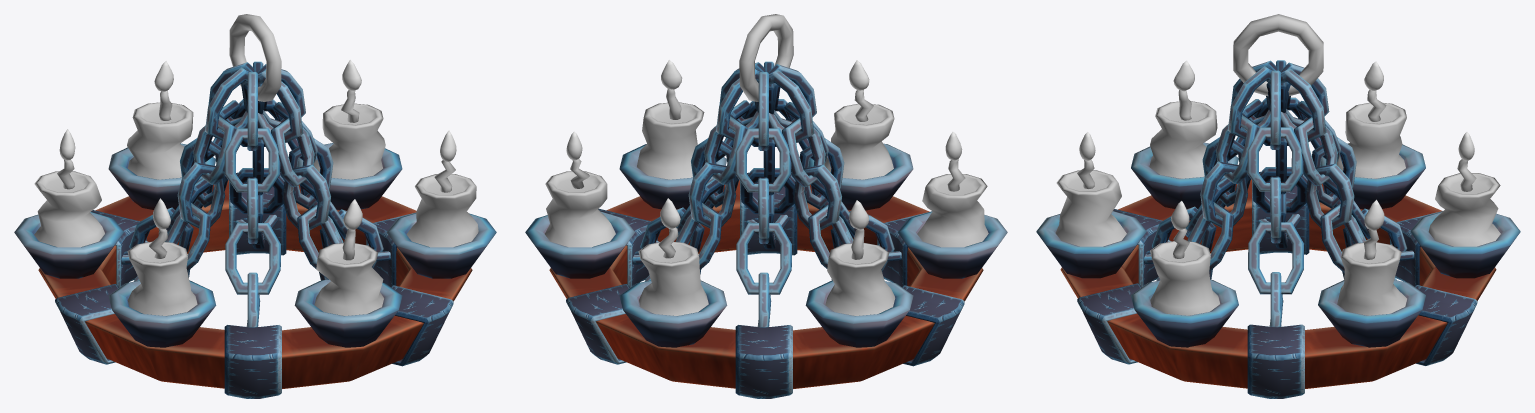
Rendered from chandelier 1.fbx.
3 views of the same model, side by side, from view 1: azimuth 30°, elevation 25°; view 2: azimuth 150°, elevation 25°; view 3: azimuth 270°, elevation 25° (orthographic).
Parts seen in each view (by area): view 1: chain, candle.005, Circle.004, Cylinder, Cube.032, Sphere.008, doors.002, lont.002; view 2: chain, candle.005, Circle.004, Cylinder, Cube.032, Sphere.008, doors.002, lont.002; view 3: chain, candle.005, Circle.004, Cylinder, Cube.032, doors.002, Sphere.008, lont.002.
Boxes of the visible parts, x1,y1,x2,y2 form: chain: (121, 61, 390, 326); candle.005: (34, 102, 478, 315); Circle.004: (14, 143, 496, 347); Cylinder: (38, 180, 472, 388); Cube.032: (55, 172, 453, 398); Sphere.008: (59, 60, 456, 229); doors.002: (229, 14, 281, 101); lont.002: (57, 90, 455, 260); chain: (632, 61, 901, 326); candle.005: (545, 102, 988, 315); Circle.004: (525, 143, 1007, 347); Cylinder: (549, 180, 983, 388); Cube.032: (566, 172, 964, 398); Sphere.008: (566, 60, 962, 229); doors.002: (739, 14, 793, 101); lont.002: (570, 89, 965, 259); chain: (1144, 60, 1414, 326); candle.005: (1055, 101, 1500, 315); Circle.004: (1036, 142, 1520, 347); Cylinder: (1060, 179, 1496, 388); Cube.032: (1077, 171, 1477, 398); doors.002: (1233, 14, 1323, 96); Sphere.008: (1079, 60, 1474, 230); lont.002: (1077, 89, 1476, 259).
Size of the model in its own units: 2493 by 1865 by 2723.
